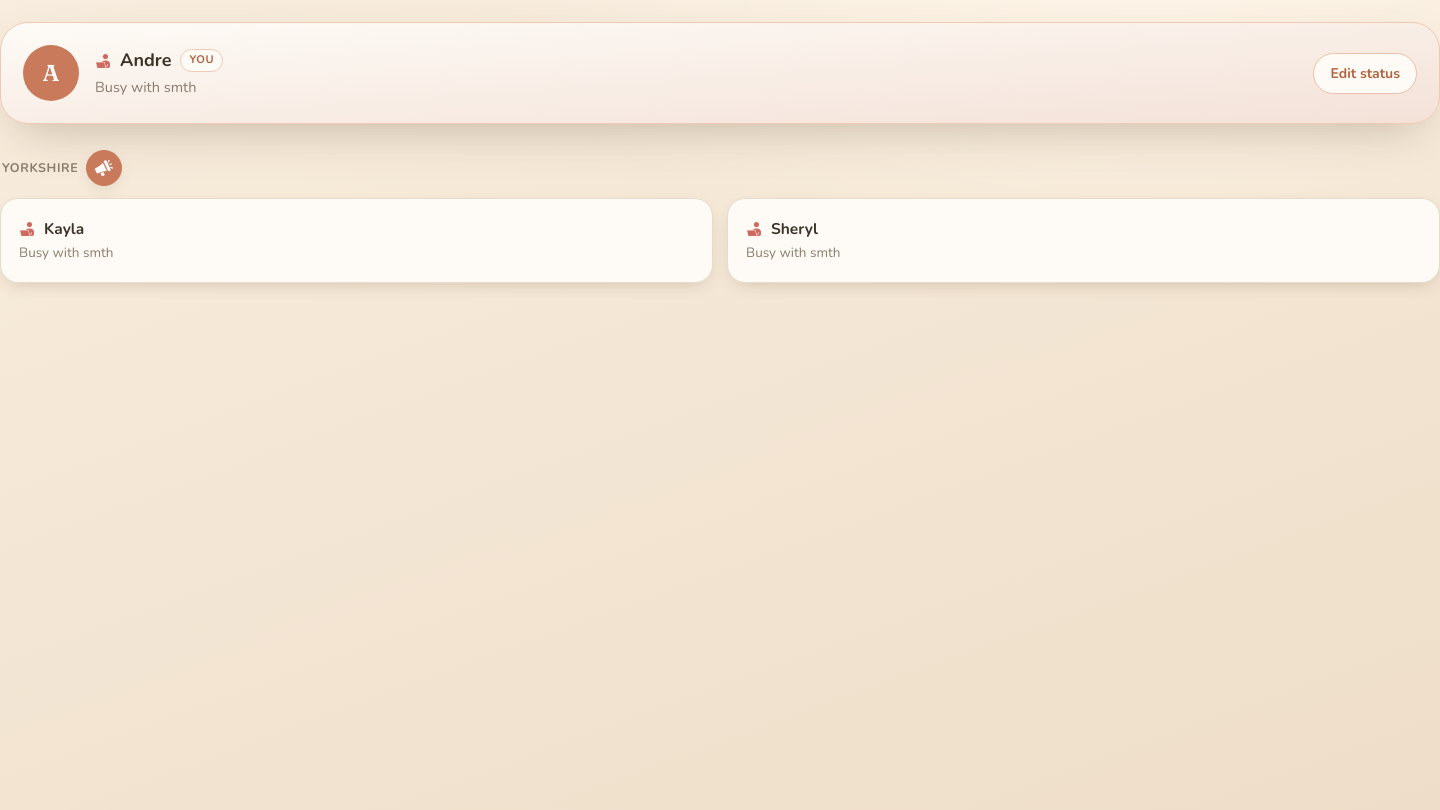
Test: HouseholdRoster › saves a status, hands the returned roster up, and closes the editor
This screenshot has width=1440, height=810.
Click the button "Edit status": (1365,73) [1313,52,1417,94]
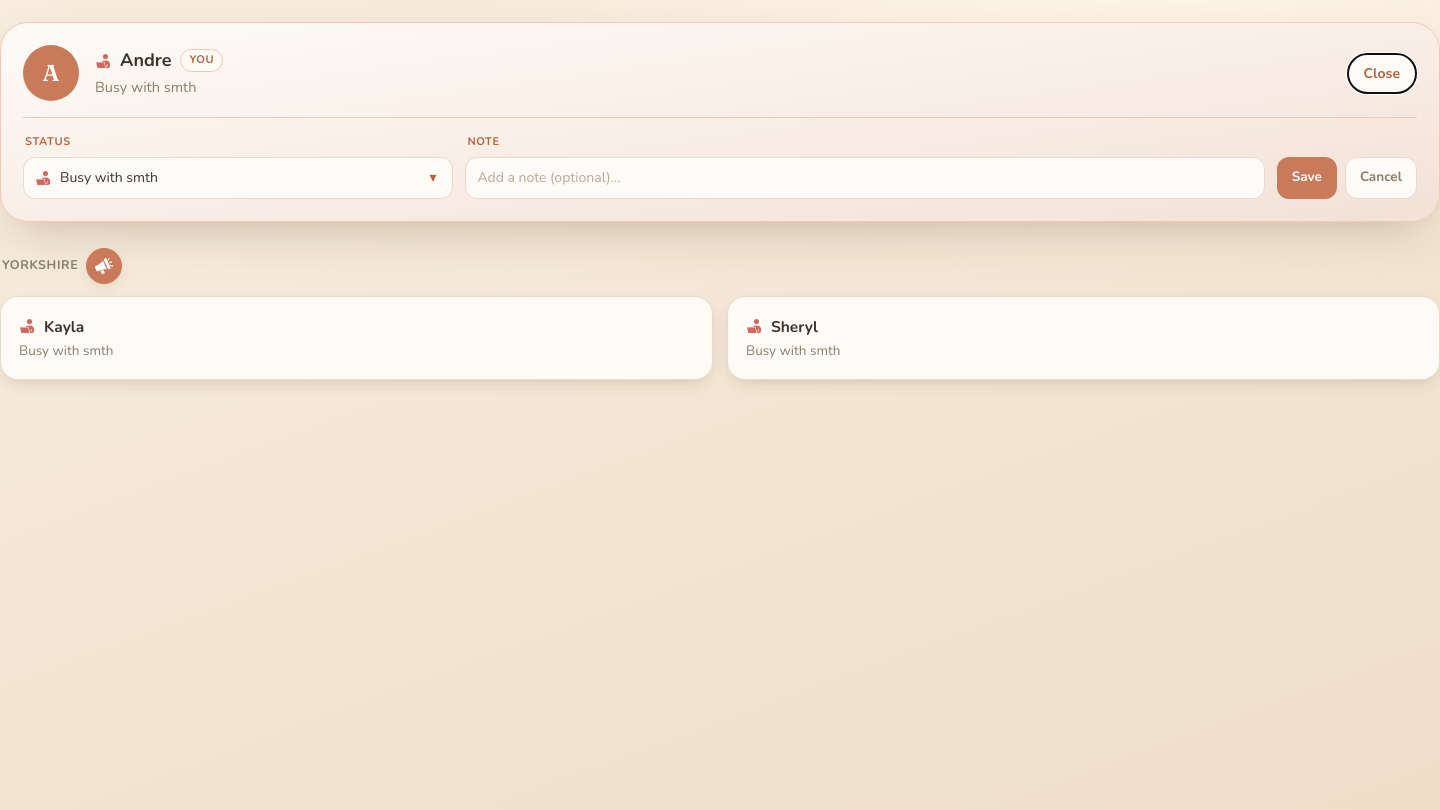
In the field with placeholder "Add a note (optional)…": (865,178) [465,156,1265,198], type "  back at 7  "
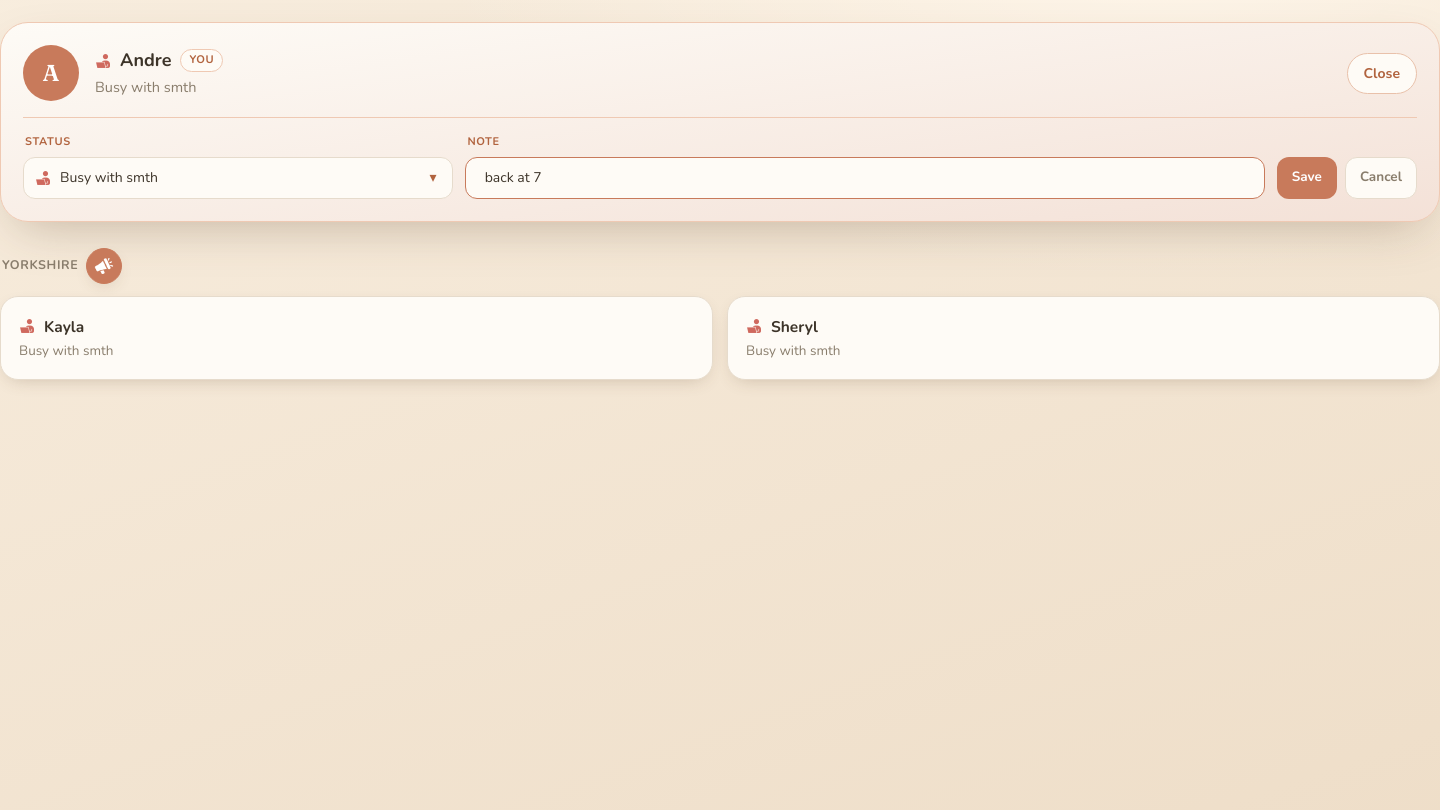
Click the button "Save": (1307,178) [1277,156,1337,198]
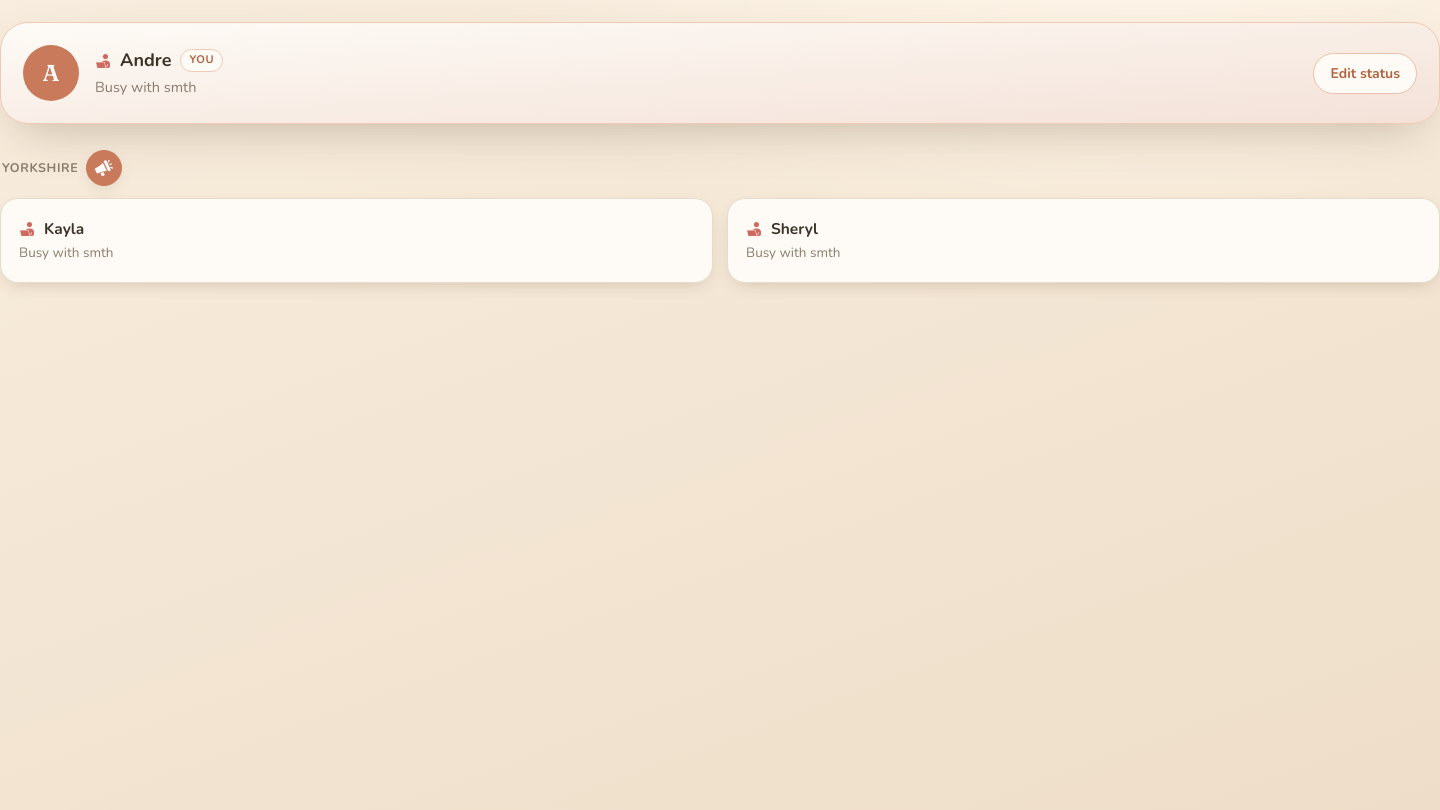
Expected: the button "Save" is gone
